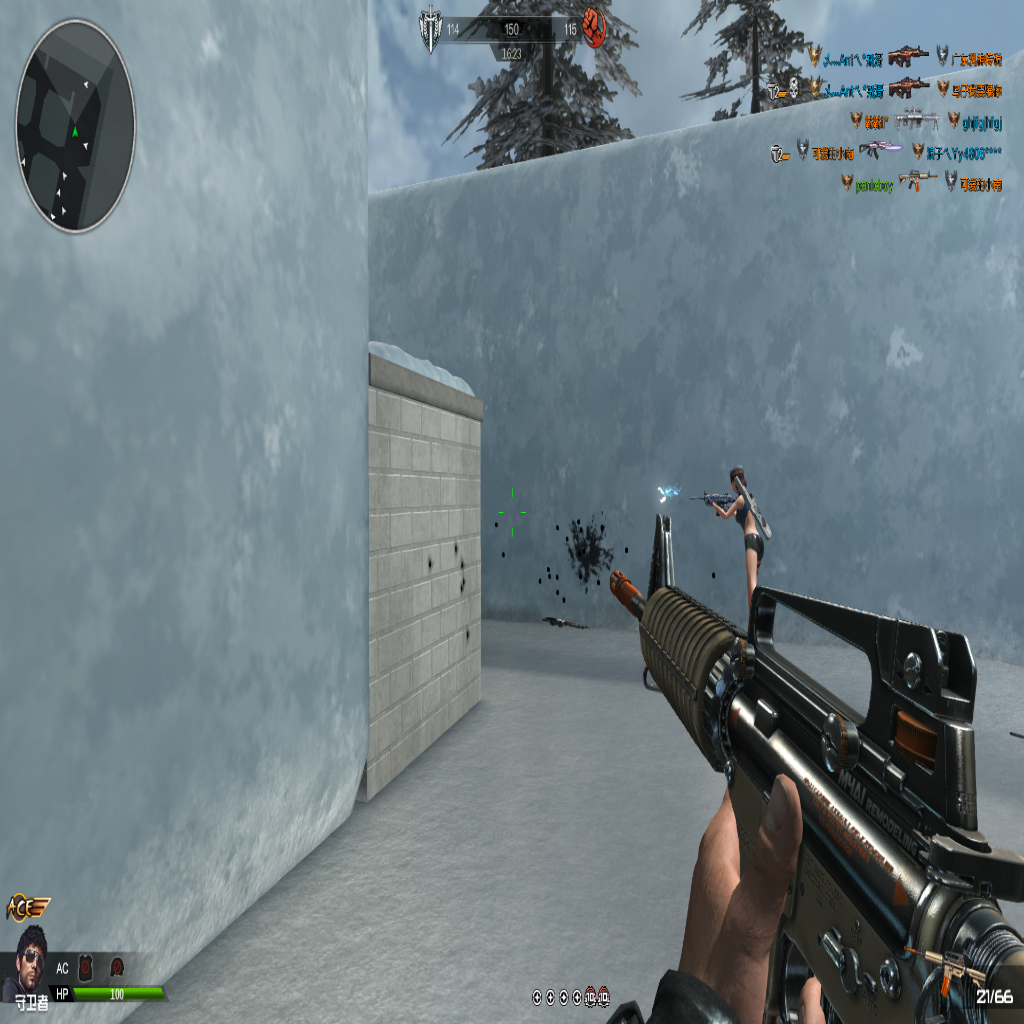ct: (701, 466, 765, 639)
